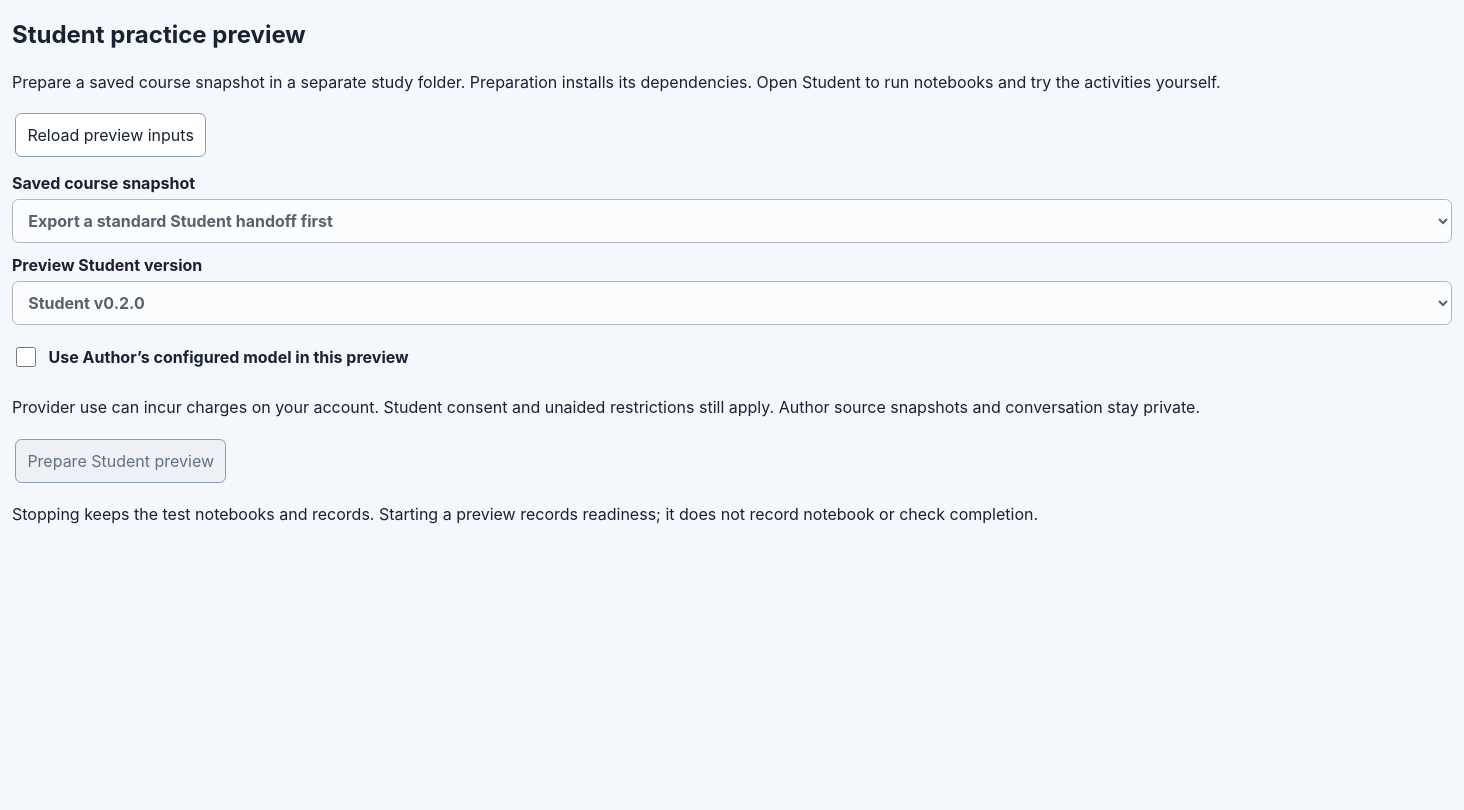
prepares only an explicit saved snapshot with provider sharing unchecked, then separately opens Student
The image size is (1464, 810).
Click the button "Reload preview inputs". click: (111, 135)
box: [15,113,206,157]
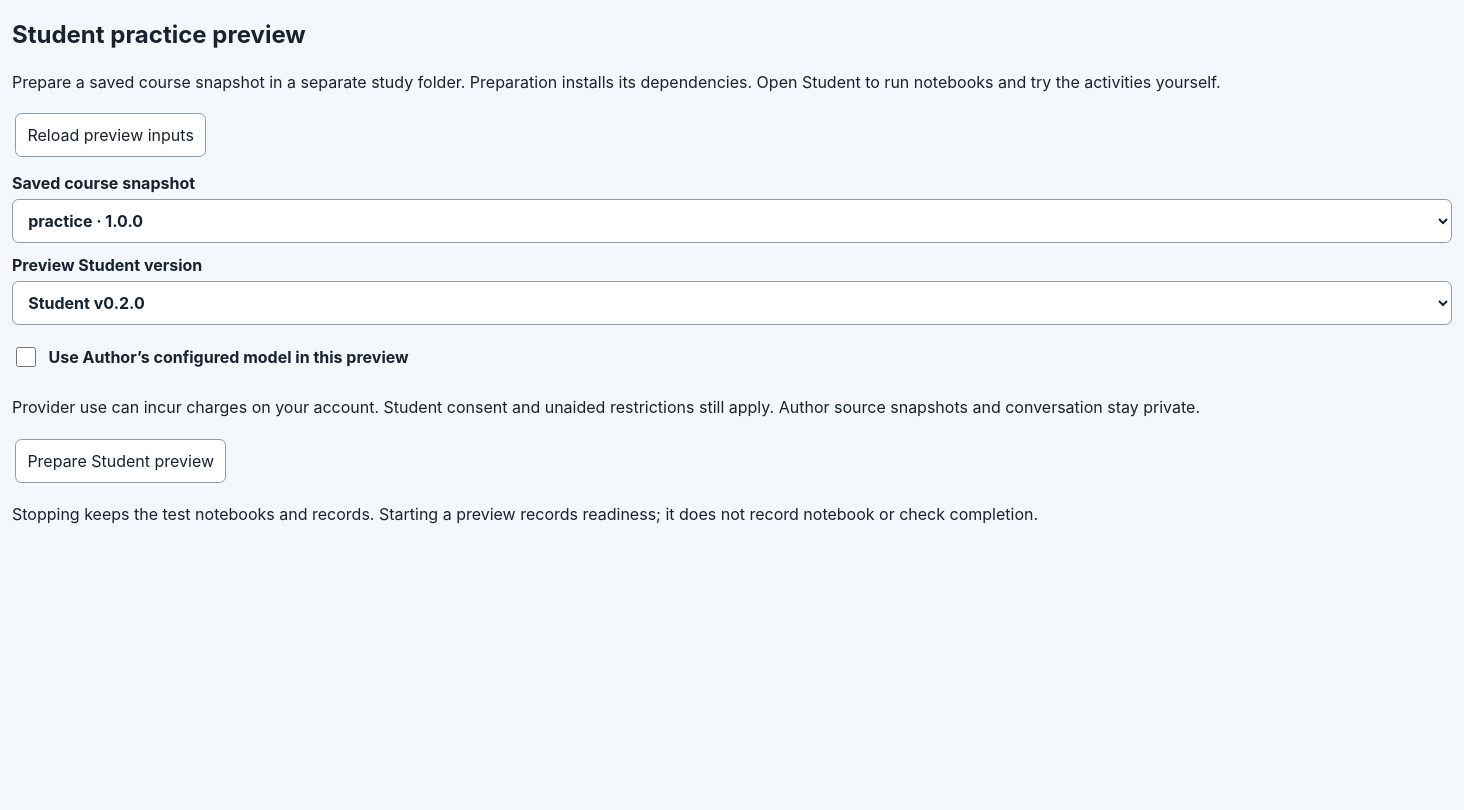
Check: the checkbox labelled "Use Author’s configured model in this preview" is not checked, box [16,347,36,367]
Click the button "Prepare Student preview". click: (121, 460)
box: [15,438,226,482]
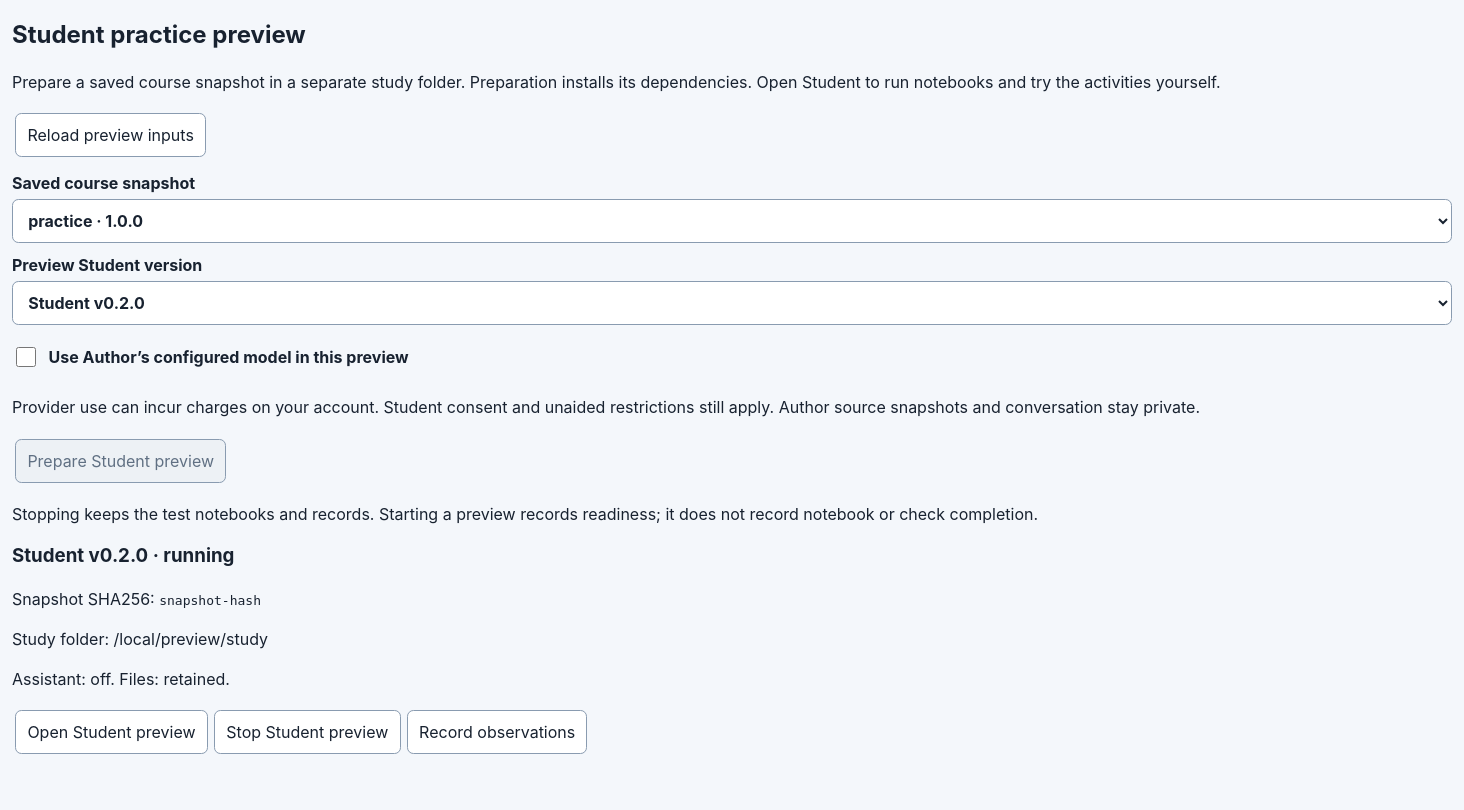
Check: the text "snapshot-hash" is shown, box [159,593,261,608]
Click the button "Open Student preview". click: (111, 732)
box: [15,710,208,754]
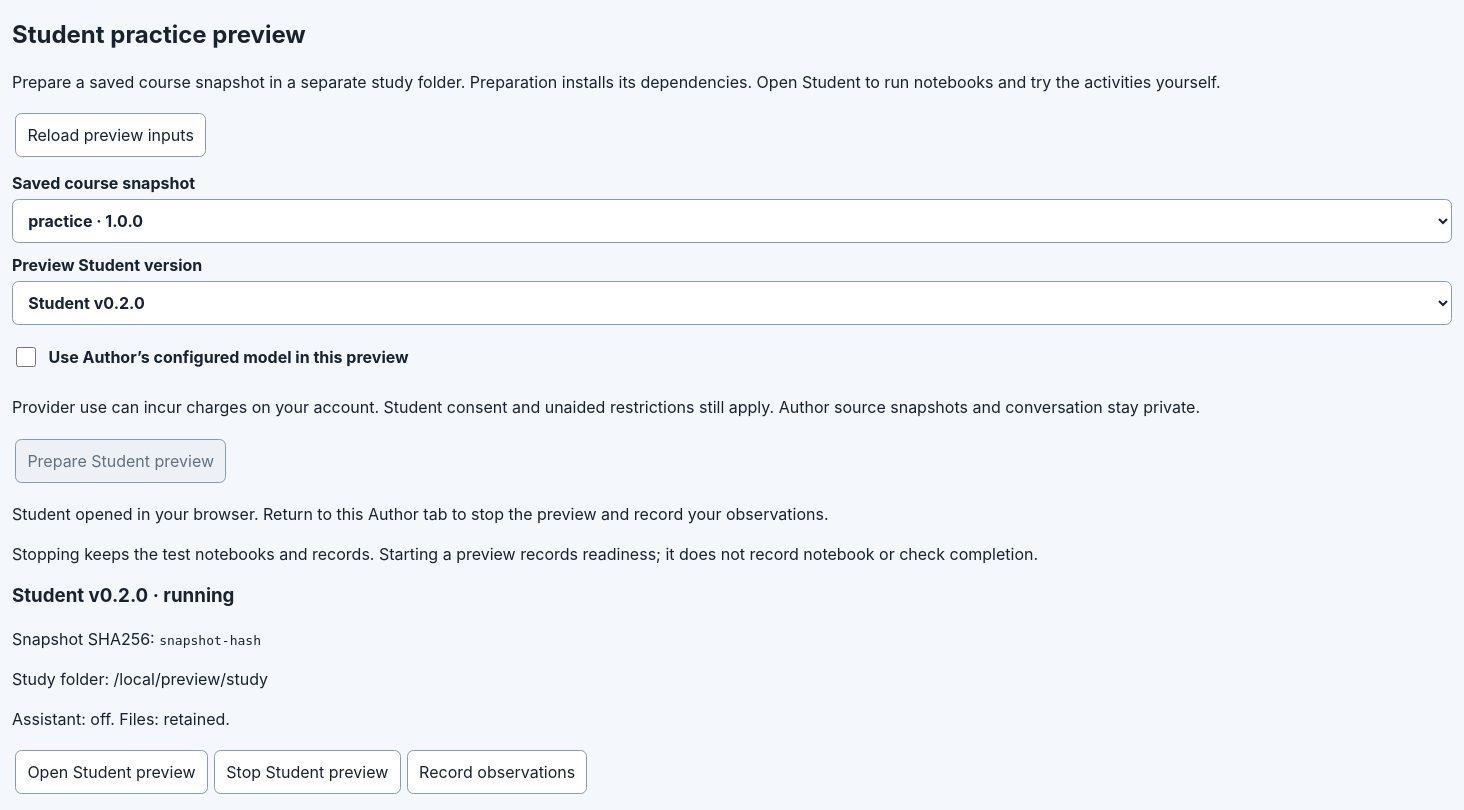
Check: the text "Student opened in your browser" is shown, box [12,504,828,524]
